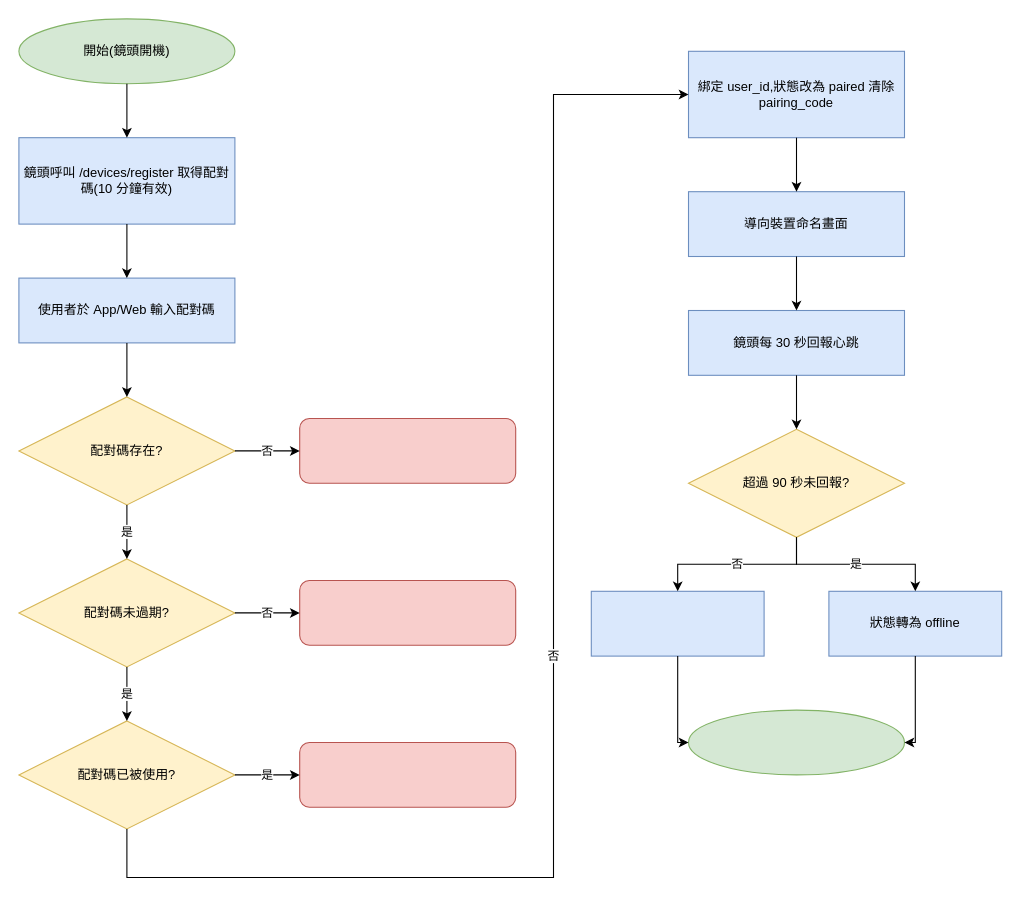
Some shapes in this 1021 by 905 pixel diagram are drawn without their labels. Each missing label, with the centre of its shape:
"DEVICE_001 配對碼已過期" belongs at pixel 407 612.
"DEVICE_002 配對碼錯誤" belongs at pixel 407 450.
"DEVICE_003 此裝置已被配對" belongs at pixel 407 774.
"狀態維持 paired" belongs at pixel 677 623.
"結束(持續回報心跳循環)" belongs at pixel 796 742.
